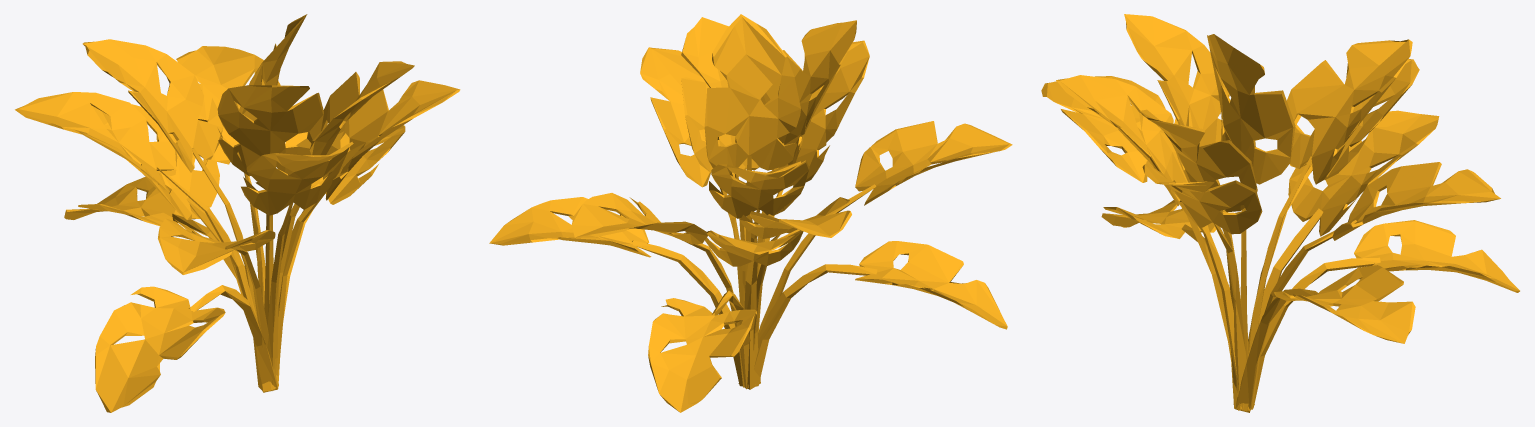
Rendered from ShrubPalmTropical05.fbx.
The picture shows the model from 3 angles, left to right: view 1: azimuth 30°, elevation 25°; view 2: azimuth 150°, elevation 25°; view 3: azimuth 270°, elevation 25°; orthographic projection. The views are drawn at different scales.
Parts seen in each view (by area): view 1: ShrubPalmTropical05_LOD0; view 2: ShrubPalmTropical05_LOD0; view 3: ShrubPalmTropical05_LOD0.
Boxes of the visible parts, box(x1,y1,x2,y2) form: ShrubPalmTropical05_LOD0: box(15, 14, 460, 412); ShrubPalmTropical05_LOD0: box(489, 14, 1012, 412); ShrubPalmTropical05_LOD0: box(1041, 14, 1519, 412).
Size of what is drawn, in the model's own units: 148 by 129 by 145.
